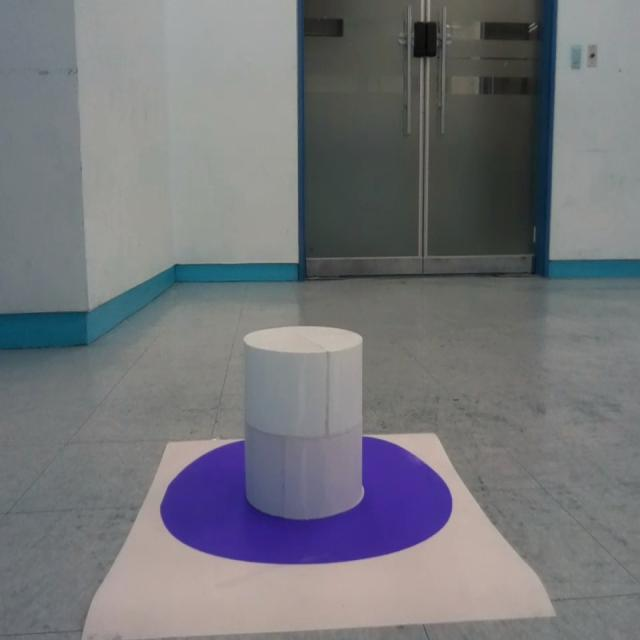cylinder: (242, 324, 366, 519)
